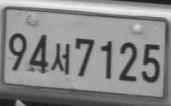1: (97, 41, 117, 79)
2: (118, 41, 138, 82)
4: (28, 33, 49, 73)
5: (141, 43, 161, 83)
7: (74, 38, 95, 76)
9: (8, 32, 27, 70)
서: (50, 43, 71, 75)
